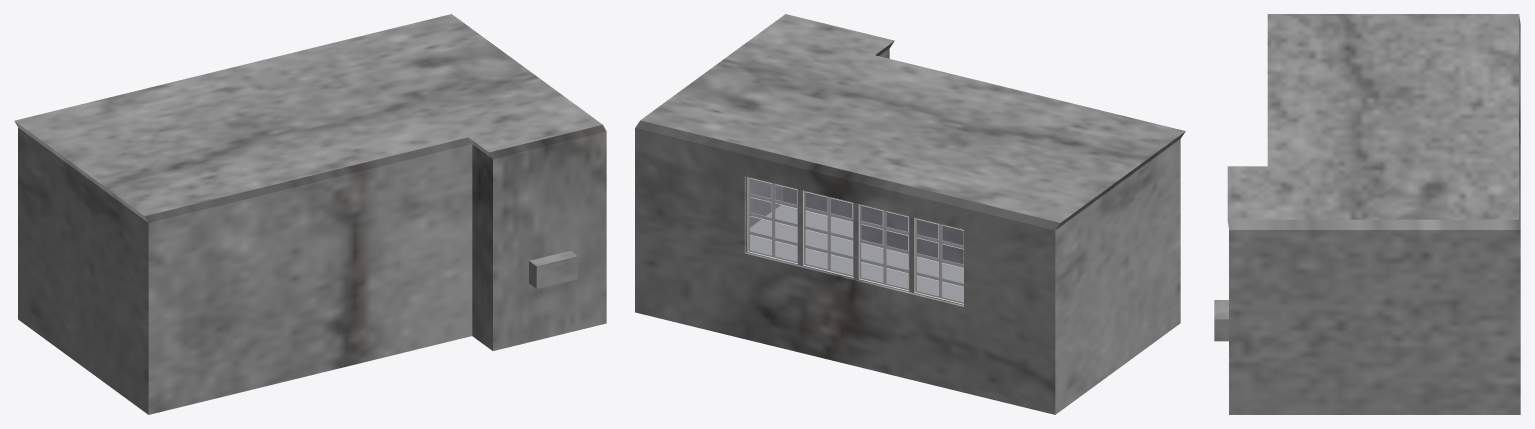
Rendered from walls.fbx.
3 renders of one model, left to right at view 1: azimuth 30°, elevation 25°; view 2: azimuth 150°, elevation 25°; view 3: azimuth 270°, elevation 25°, orthographic. The views are drawn at different scales.
Parts seen in each view (by area): view 1: Walls; view 2: Walls; view 3: Walls.
Boxes of the visible parts, x1=… form: Walls: x1=14, y1=14, x2=606, y2=414; Walls: x1=635, y1=14, x2=1185, y2=414; Walls: x1=1214, y1=14, x2=1520, y2=414.
Bounding box in the file's own units: 6.28 × 3.91 × 2.72.
